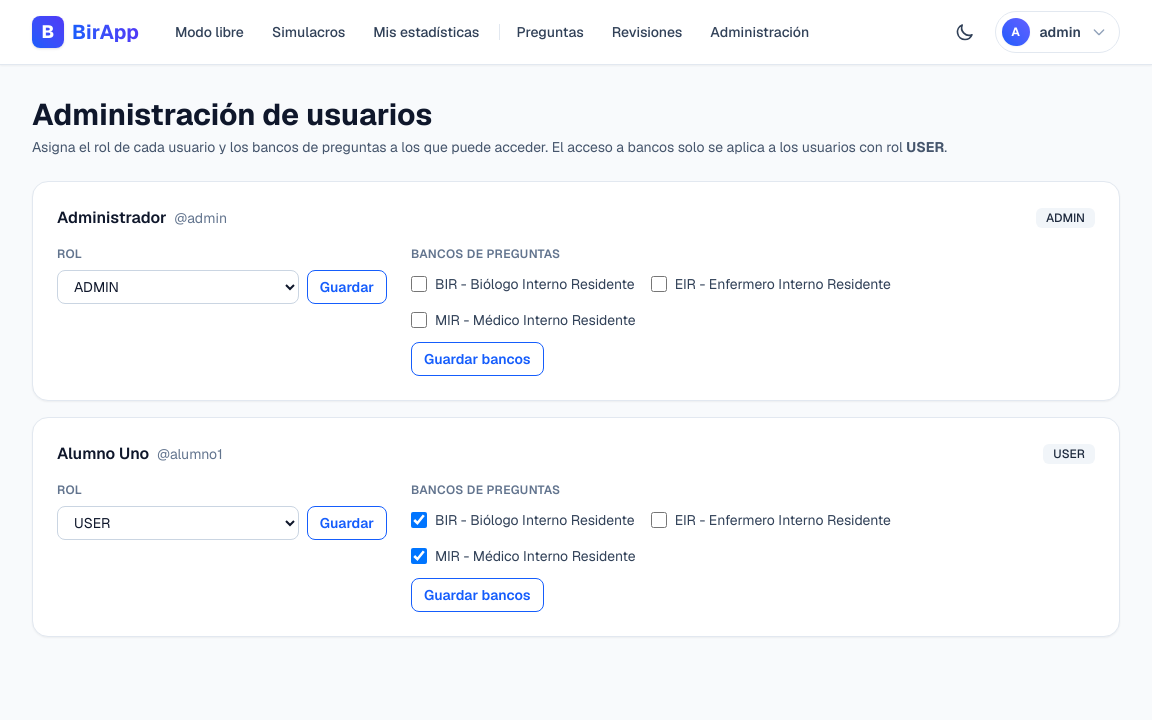
Test: AdminUsersPage (/admin/users) › allows ADMIN to change a user role via PUT /api/admin/users/{id}/role
Select "CREATOR" in the dropdown labelled "Rol" below "Alumno Uno" at point(178, 523), box [57,506,299,540]
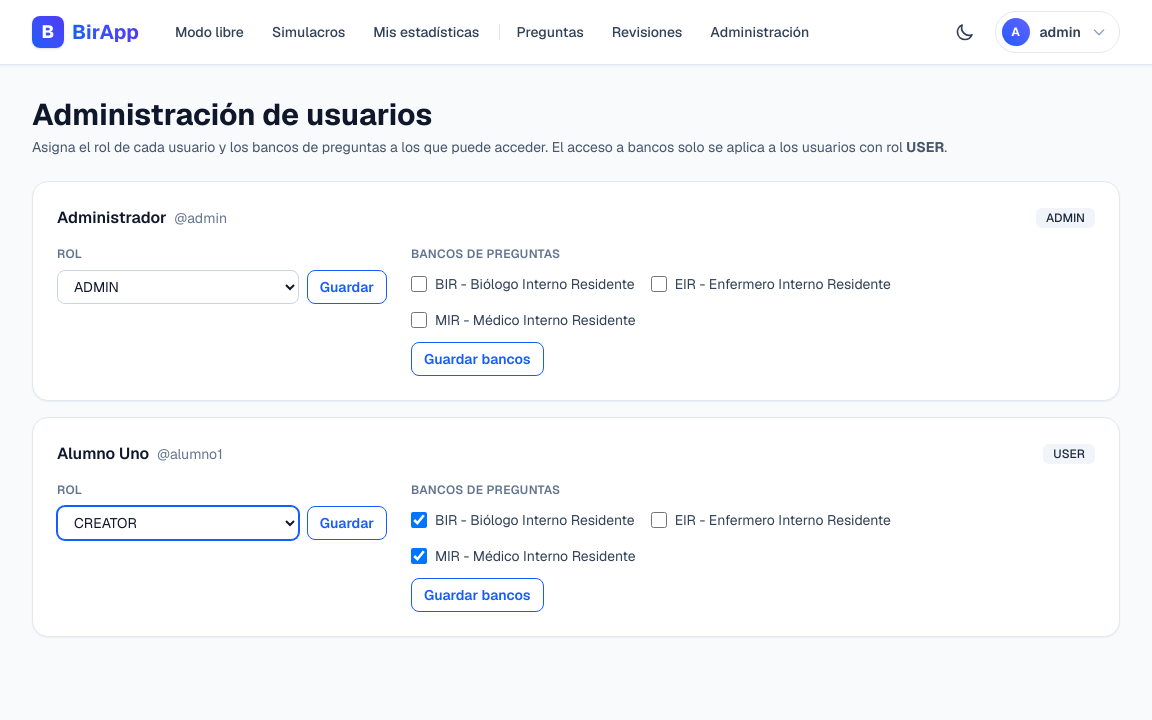
Click the button "Guardar" below "Alumno Uno" at point(347, 523), box [307,506,387,540]
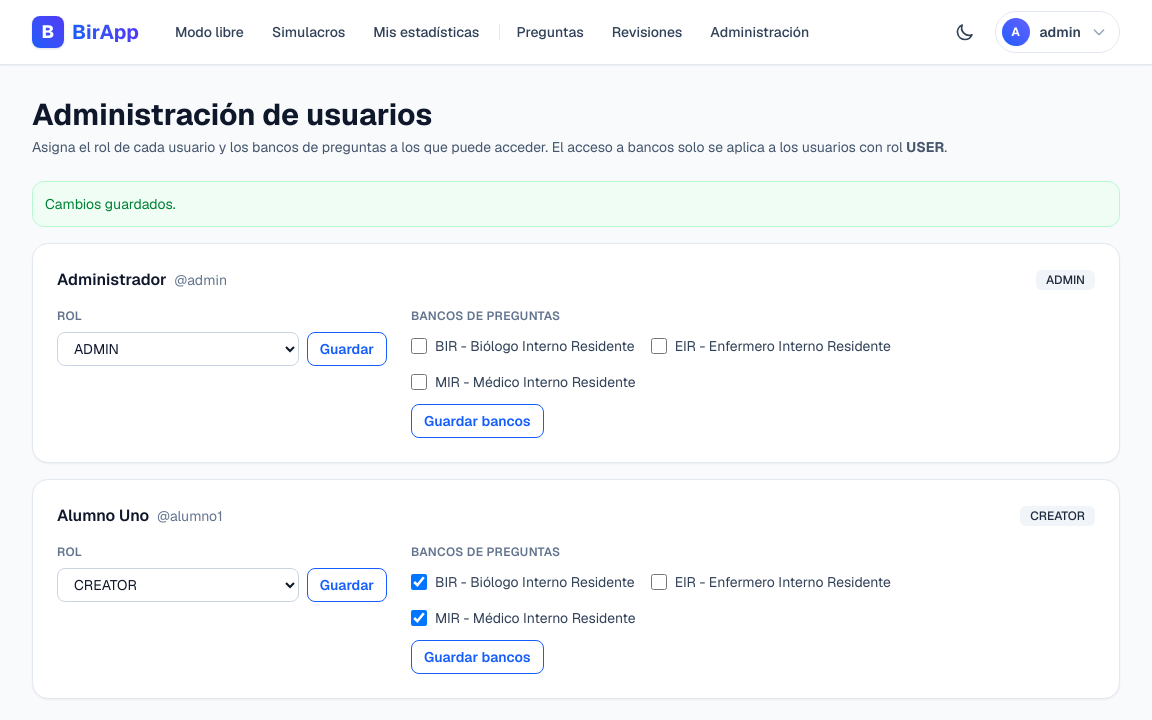
Check: the text "Cambios guardados." is shown, box [32,181,1120,227]
